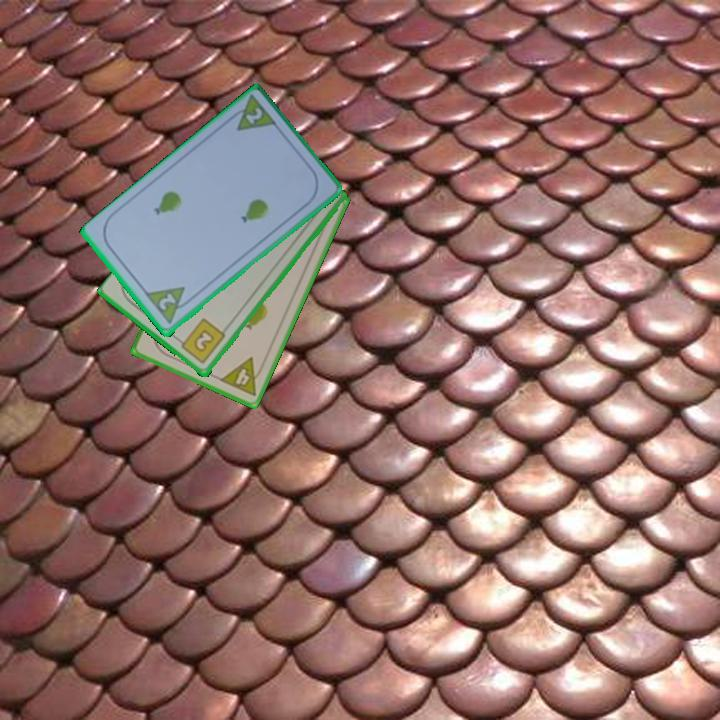2b: (174, 315, 228, 367)
2p: (143, 283, 196, 328), (242, 104, 266, 128)
4p: (216, 354, 268, 399)
